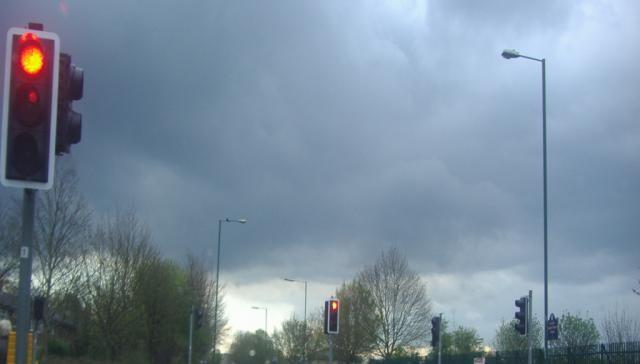red_light: (0, 28, 60, 189), (328, 298, 340, 333)
